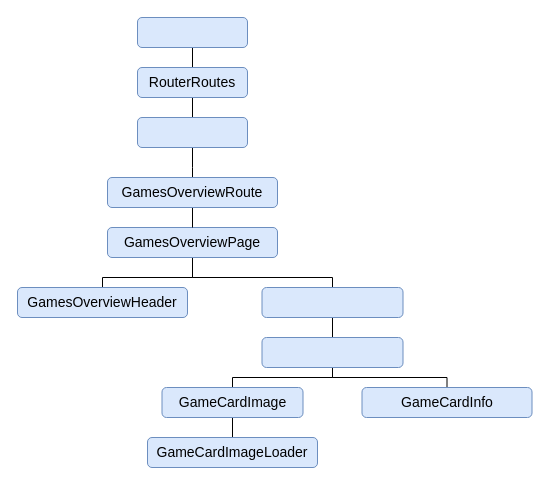
Image size: 550x485. Some labels were removed from this diagram. The shapes that lost their labels are listed below. From the top down, each one's box as (x1, y1, x2, y2) in pixels, then its label:
(136, 16, 248, 48): App
(136, 116, 248, 148): Routes
(261, 286, 403, 318): GamesOverview
(261, 336, 403, 368): GameCard
